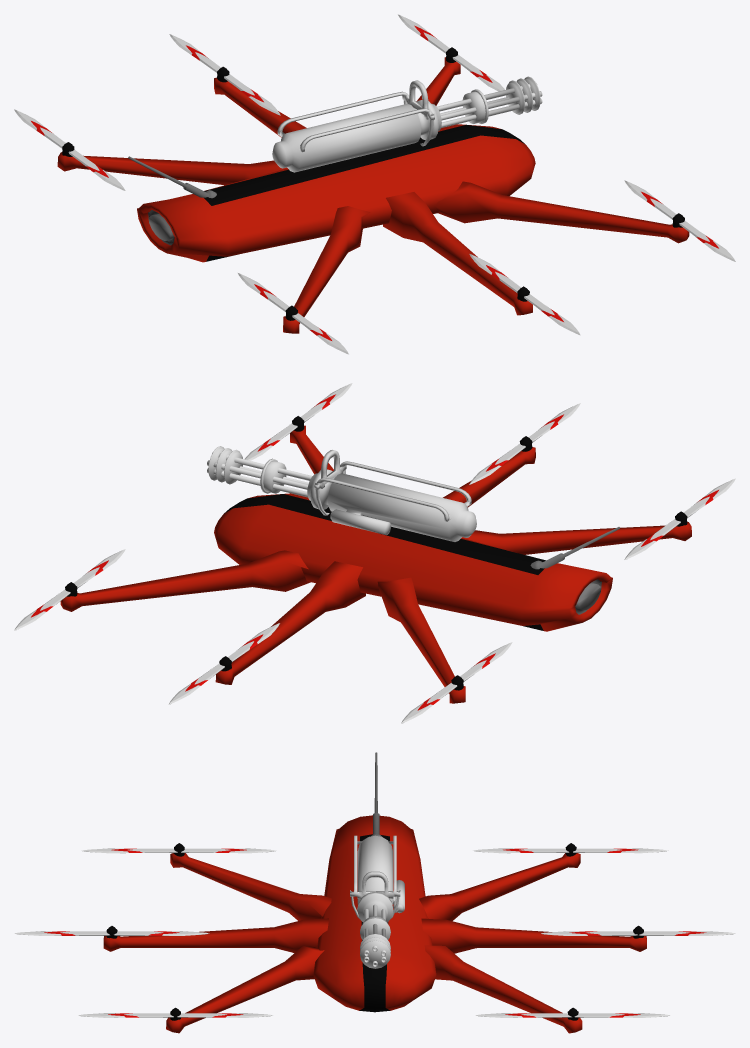
File: boss.fbx
3 views of the same model, one above another, from view 1: azimuth 30°, elevation 25°; view 2: azimuth 150°, elevation 25°; view 3: azimuth 270°, elevation 25° (orthographic). The views are drawn at different scales.
Parts seen in each view (by area): view 1: Carcaça, Minigun, Carcaça.004, Carcaça.006, Carcaça.003, Carcaça.007, Carcaça.005, Carcaça.002; view 2: Carcaça, Minigun, Carcaça.002, Carcaça.005, Carcaça.006, Carcaça.004, Carcaça.003, Carcaça.007; view 3: Carcaça, Minigun, Carcaça.005, Carcaça.004, Carcaça.003, Carcaça.002, Carcaça.006, Carcaça.007.
Part boxes in pixels (x1,y1,x2,y2): Carcaça: [57, 47, 689, 333]; Minigun: [272, 76, 542, 172]; Carcaça.004: [14, 109, 125, 190]; Carcaça.006: [469, 254, 580, 335]; Carcaça.003: [169, 34, 280, 115]; Carcaça.007: [624, 180, 735, 261]; Carcaça.005: [238, 273, 348, 354]; Carcaça.002: [398, 14, 504, 91]; Carcaça: [60, 416, 691, 703]; Minigun: [207, 446, 476, 541]; Carcaça.002: [14, 549, 125, 630]; Carcaça.005: [624, 478, 735, 559]; Carcaça.006: [469, 403, 580, 484]; Carcaça.004: [401, 642, 512, 723]; Carcaça.003: [168, 623, 279, 704]; Carcaça.007: [244, 383, 352, 460]; Carcaça: [103, 752, 646, 1033]; Minigun: [350, 835, 404, 968]; Carcaça.005: [81, 848, 276, 853]; Carcaça.004: [473, 848, 668, 853]; Carcaça.003: [541, 931, 735, 935]; Carcaça.002: [475, 1013, 670, 1017]; Carcaça.006: [14, 931, 209, 935]; Carcaça.007: [78, 1013, 273, 1017].
Bounding box in the file's own units: 803 × 219 × 1286.
